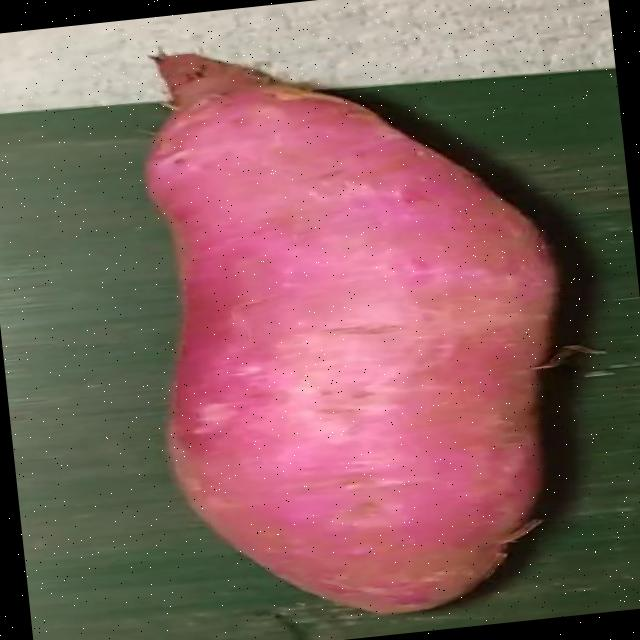Sweet Potato: (141, 50, 553, 613)
